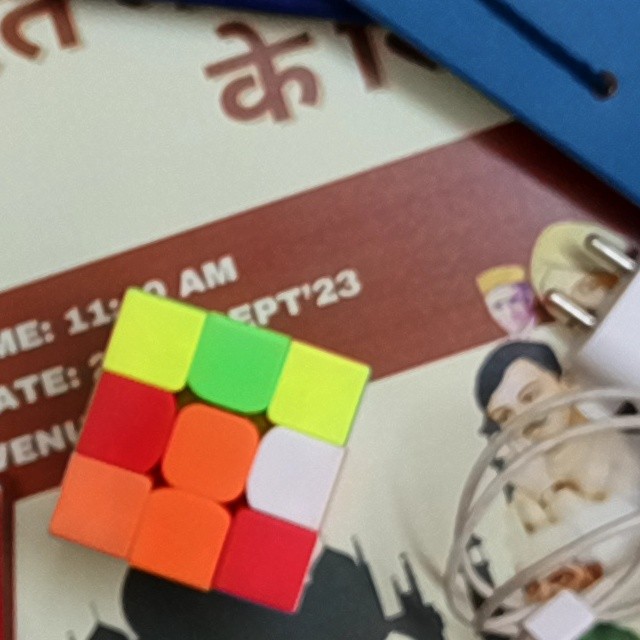tile: (152, 500, 212, 565), (203, 336, 264, 398), (96, 390, 157, 451), (177, 422, 237, 484), (235, 529, 295, 590), (70, 473, 130, 533), (266, 443, 324, 505), (290, 362, 346, 423), (125, 314, 183, 370)
